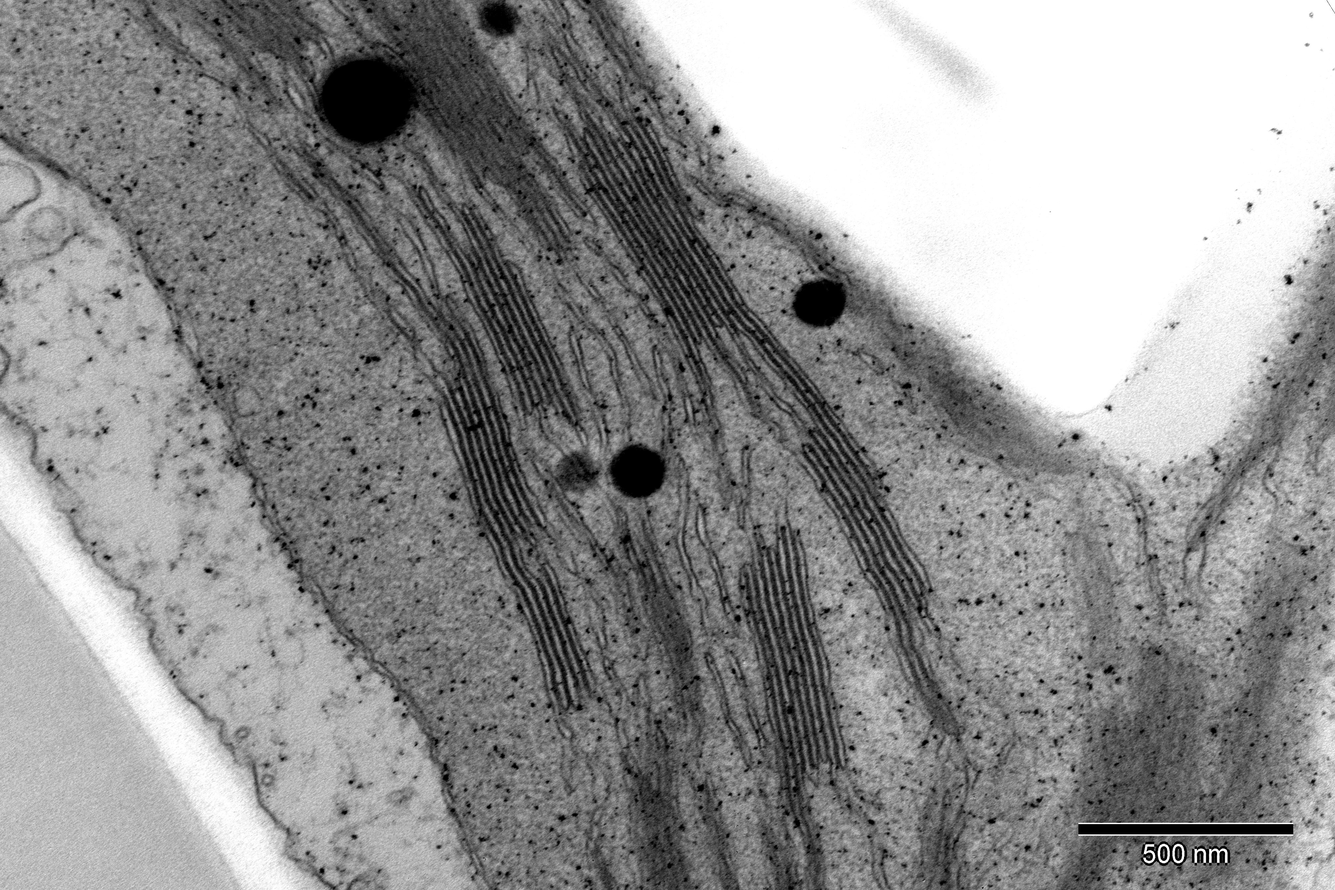granum: (561, 111, 834, 424), (353, 0, 585, 268), (790, 406, 964, 742), (734, 523, 849, 890), (418, 292, 553, 589), (1050, 647, 1215, 889), (445, 194, 585, 423), (878, 314, 1064, 471), (599, 526, 710, 740), (1244, 203, 1335, 446), (1192, 688, 1294, 886), (1215, 532, 1324, 711), (505, 557, 602, 716), (619, 704, 700, 890), (1053, 522, 1129, 676), (202, 0, 328, 66), (892, 791, 971, 890)
